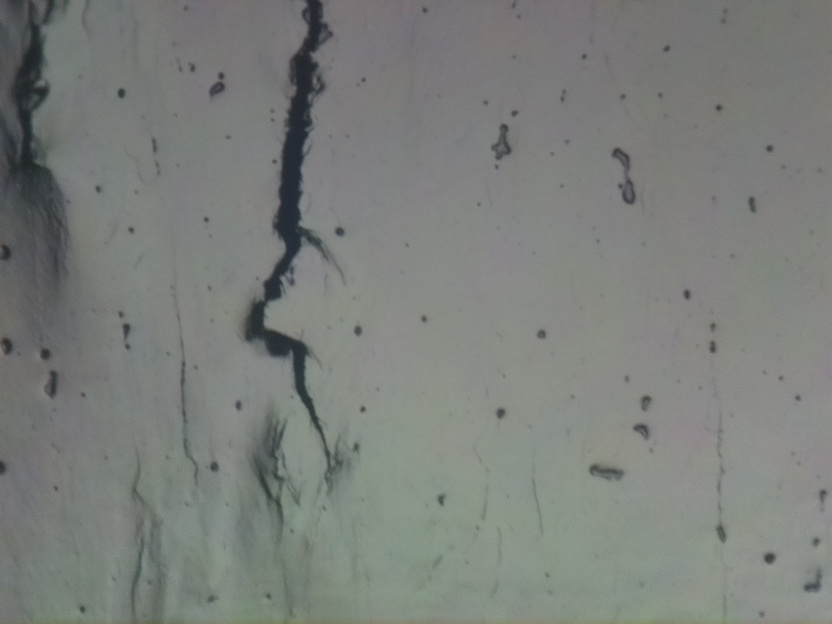crack: (243, 0, 343, 474), (11, 0, 80, 217)
